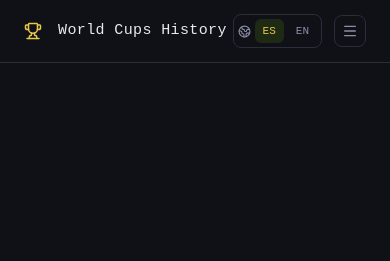
WorldCupsNavbar › closes the mobile menu after selecting a mobile link
This screenshot has width=390, height=261.
Click the button named "Abrir menú": click(350, 31) x1=334 y1=15 x2=366 y2=47
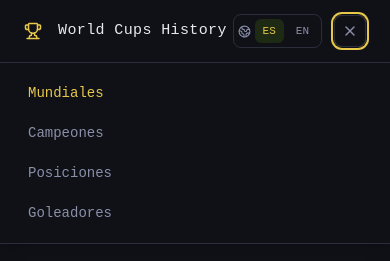
Click the link "Goleadores": click(70, 213) x1=28 y1=205 x2=112 y2=221
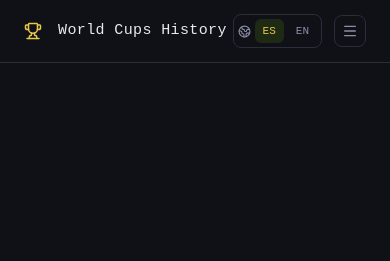
expect the button named "Abrir menú" is collapsed: met, box x1=334 y1=15 x2=366 y2=47
